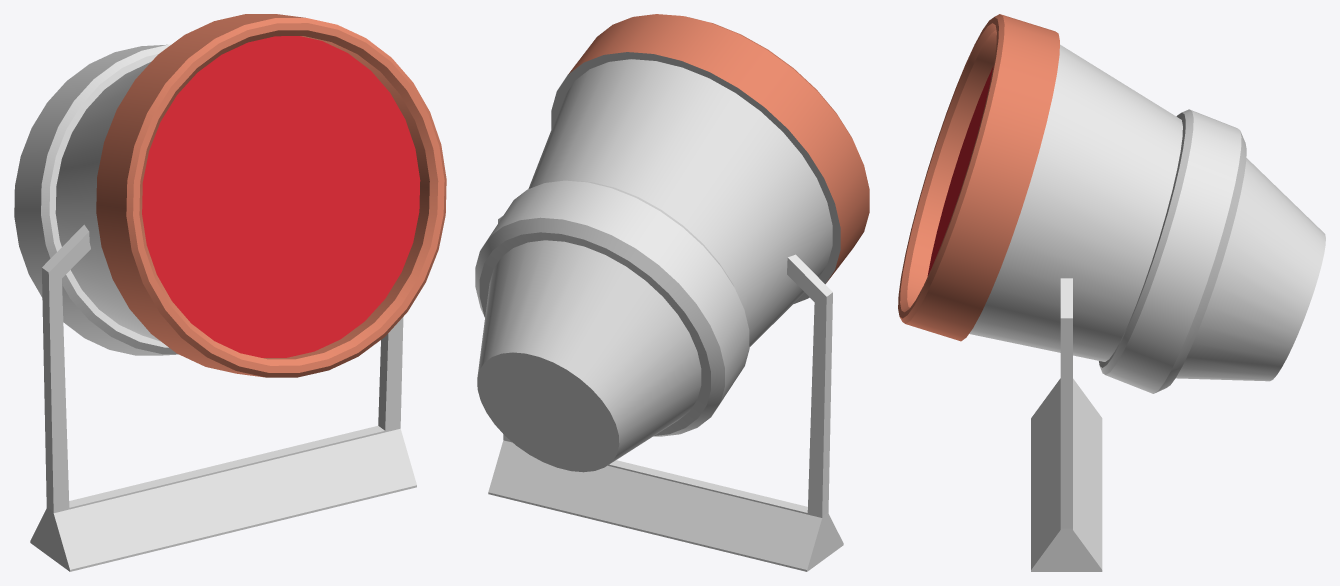
Rendered from spotlight.fbx.
3 renders of one model, left to right at view 1: azimuth 30°, elevation 25°; view 2: azimuth 150°, elevation 25°; view 3: azimuth 270°, elevation 25°, orthographic. The views are drawn at different scales.
Visible parts, largest first — view 1: Circle.001, Cube; view 2: Circle.001, Cube; view 3: Circle.001, Cube.
Part boxes in pixels (left/top/right/bottom): Circle.001: left=14, top=14, right=446, bottom=377; Cube: left=30, top=224, right=416, bottom=571; Circle.001: left=475, top=14, right=869, bottom=472; Cube: left=488, top=216, right=843, bottom=571; Circle.001: left=898, top=14, right=1325, bottom=393; Cube: left=1031, top=278, right=1102, bottom=571.
Size of the model in its own units: 5.03 by 6.97 by 5.81.
